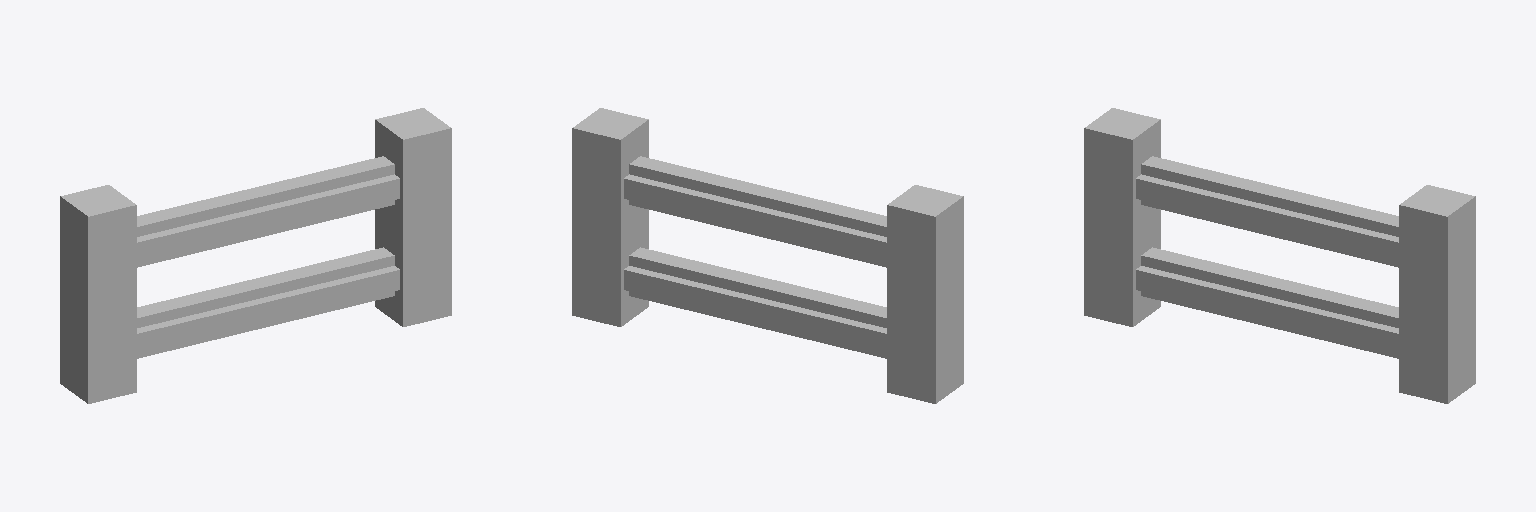
File: fence.obj
The picture shows the model from 3 angles: view 1: azimuth 30°, elevation 25°; view 2: azimuth 150°, elevation 25°; view 3: azimuth 330°, elevation 25°; orthographic projection.
Parts seen in each view (by area): view 1: fence; view 2: fence; view 3: fence.
Boxes of the visible parts, x1=… form: fence: x1=60, y1=108, x2=451, y2=403; fence: x1=572, y1=108, x2=963, y2=403; fence: x1=1084, y1=108, x2=1475, y2=403.
Bounding box in the file's own units: 75 × 37 × 10.